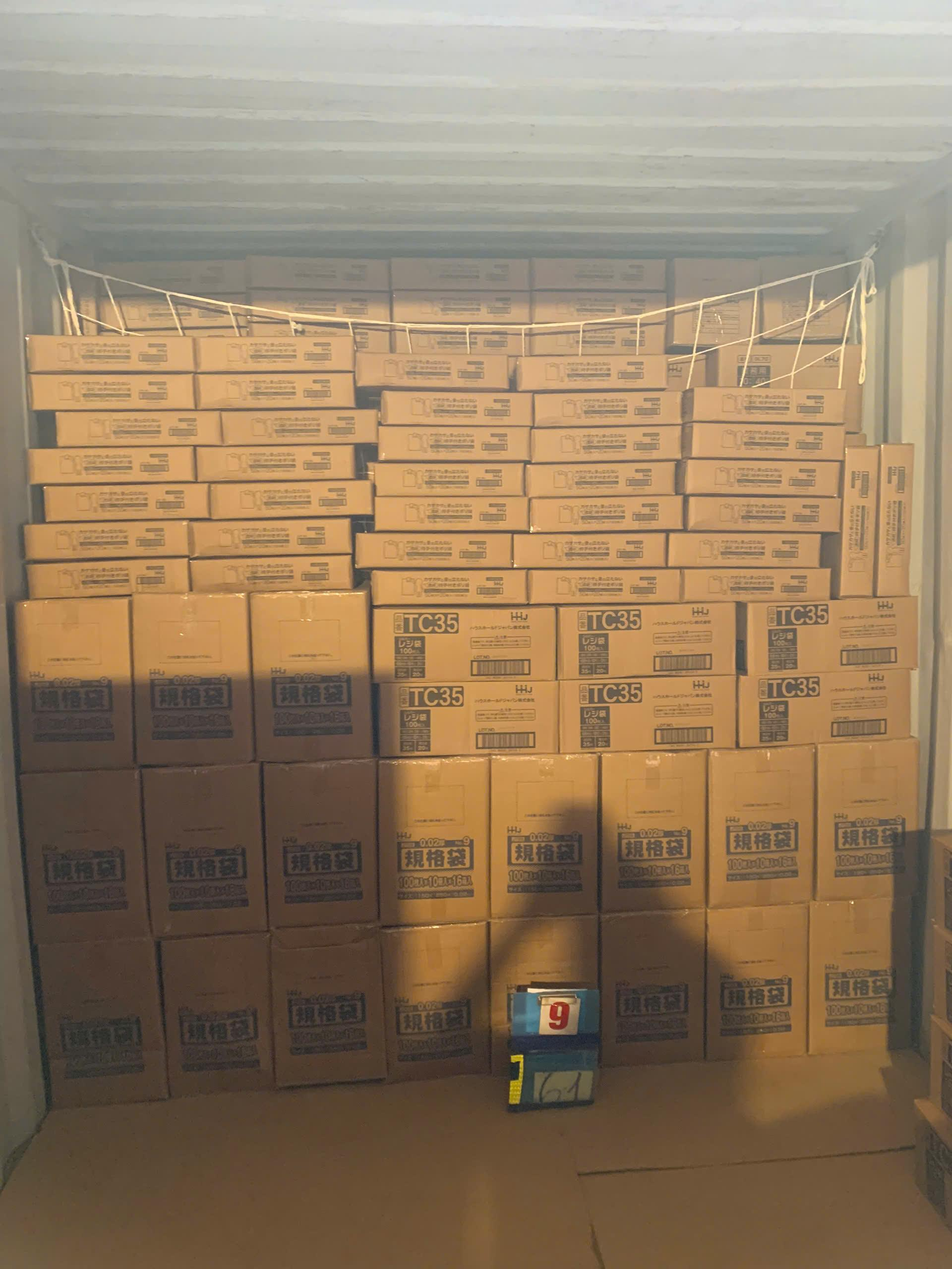carton: (32, 934, 167, 1109), (18, 769, 148, 941), (140, 765, 265, 935), (129, 600, 257, 766), (248, 598, 377, 761), (11, 605, 137, 771), (262, 762, 380, 926), (267, 929, 388, 1088), (156, 931, 272, 1096), (378, 760, 492, 921), (488, 916, 597, 1078), (379, 921, 489, 1080), (488, 755, 595, 915), (600, 752, 705, 910), (706, 750, 810, 909), (815, 745, 920, 900), (600, 910, 699, 1068), (707, 904, 805, 1062), (558, 673, 740, 756), (810, 897, 903, 1058), (556, 600, 737, 681), (736, 668, 912, 749), (371, 685, 556, 756), (734, 599, 916, 668), (373, 607, 550, 677), (669, 259, 757, 348), (26, 520, 191, 566), (197, 479, 366, 523), (191, 518, 359, 562), (726, 343, 858, 399), (33, 446, 203, 489), (32, 479, 195, 523), (27, 556, 188, 599), (25, 373, 198, 413), (356, 531, 519, 573), (192, 336, 355, 378), (27, 333, 192, 374), (199, 445, 368, 485), (35, 409, 208, 448), (190, 554, 356, 594), (682, 458, 838, 500), (873, 444, 916, 595), (194, 372, 360, 411), (686, 422, 844, 462), (685, 387, 845, 426), (205, 410, 372, 447), (368, 569, 524, 608), (357, 353, 517, 391), (837, 446, 878, 593), (528, 496, 681, 535), (249, 294, 384, 338), (514, 532, 665, 571), (376, 389, 530, 427), (684, 495, 833, 534), (368, 495, 525, 532), (516, 355, 671, 392), (373, 426, 530, 462), (530, 425, 678, 463), (678, 532, 828, 569), (532, 391, 682, 428), (372, 461, 529, 496), (92, 295, 231, 334), (757, 286, 854, 341), (678, 568, 826, 604), (527, 568, 675, 604), (244, 257, 382, 295), (526, 460, 669, 496), (389, 258, 524, 296), (534, 292, 659, 333), (94, 265, 231, 302), (390, 294, 528, 330), (526, 326, 657, 358), (396, 324, 522, 357), (532, 258, 656, 291)
